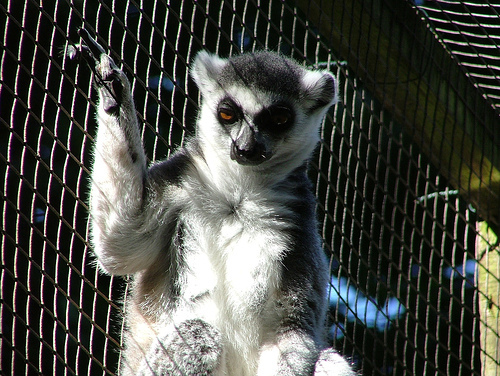cat: (61, 23, 367, 374)
